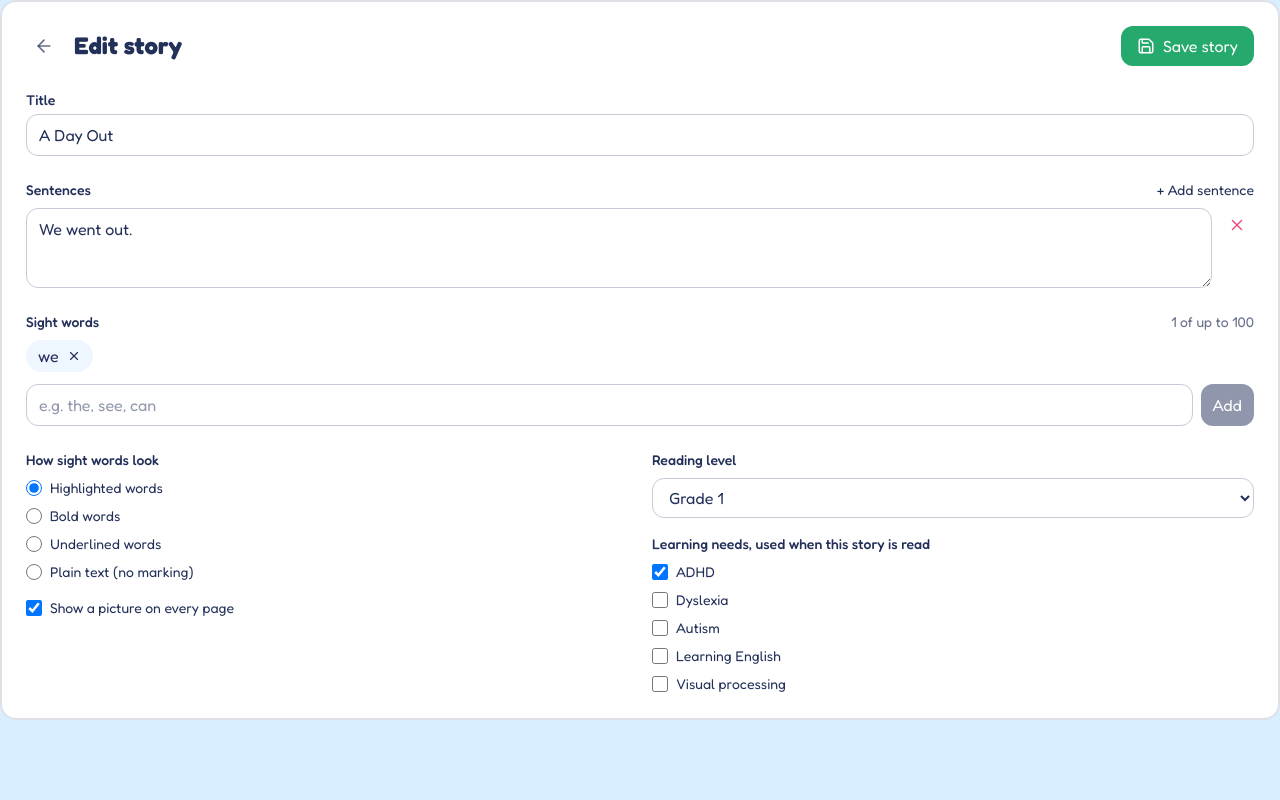
Test: StoryEditor › shows why saving failed
Click the button "Save story" at {"x": 1187, "y": 46}, box [1121,26,1254,66]
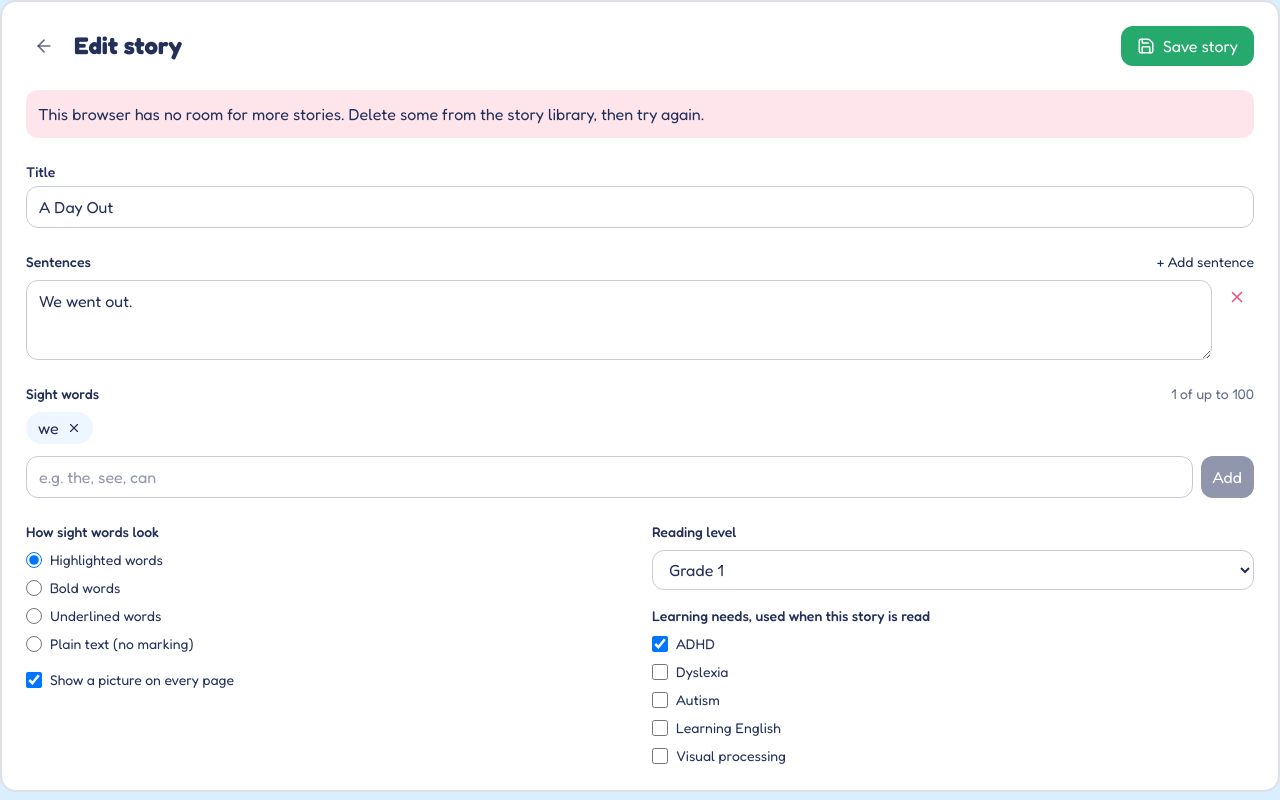
Result: the message shows "This browser has no room for more stories." at [38,104,704,124]
